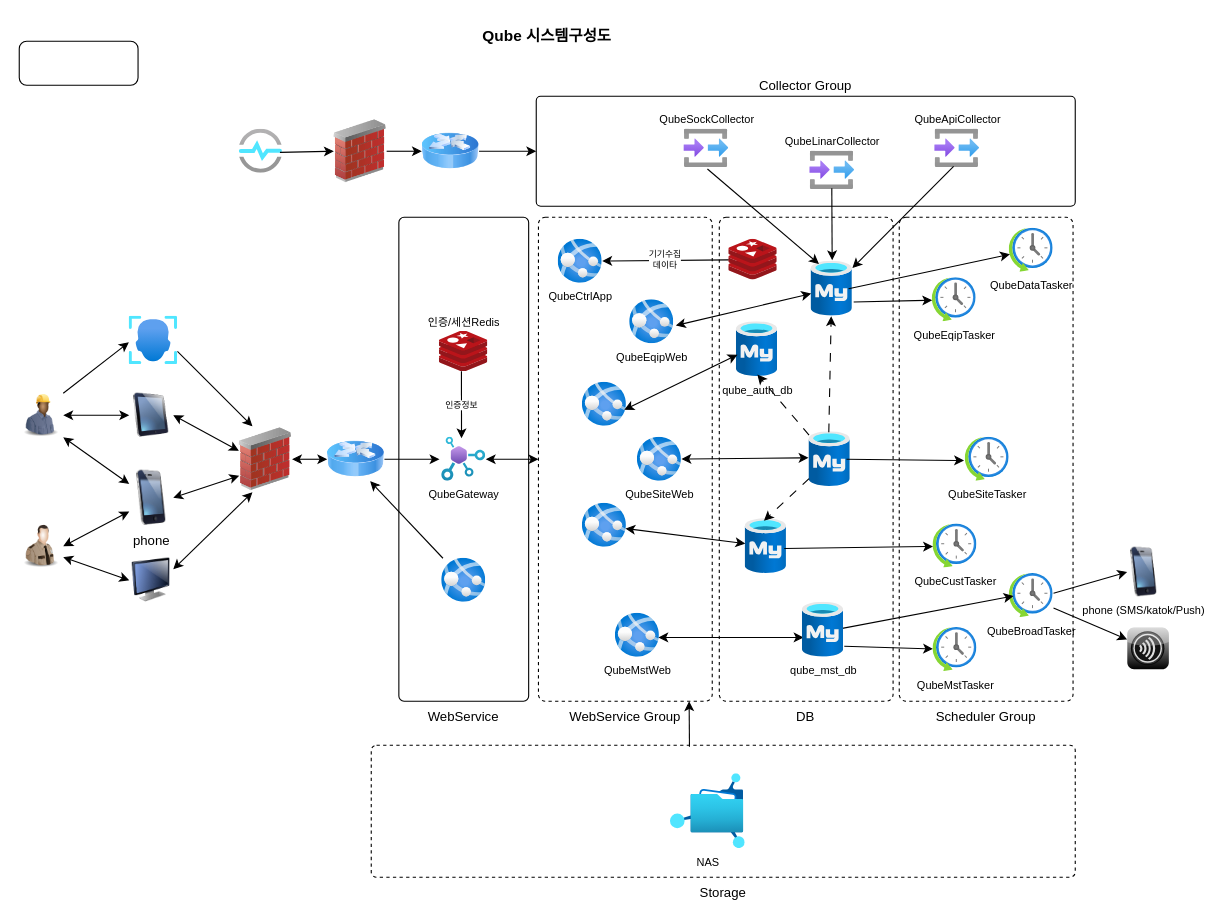
This 1224x919 diagram has some shape labels left out. The shapes that lost their labels are listed below. From the top down, each one's centre as x and y in pixels, then its label:
At (x=78, y=62): "DMZ Area".
At (x=260, y=151): "IoT센서".
At (x=752, y=259): "수집데이타Redis".
At (x=831, y=288): "qube_eqip_db".
At (x=153, y=340): "안면인식".
At (x=151, y=415): "Tablet".
At (x=604, y=404): "QubeAuthWeb".
At (x=829, y=458): "qube_site_db".
At (x=604, y=525): "QubeCustWeb".
At (x=765, y=545): "qube_cust_db".
At (x=151, y=580): "PC".
At (x=463, y=580): "QubeStaticWeb".
At (x=1147, y=648): "방송".
